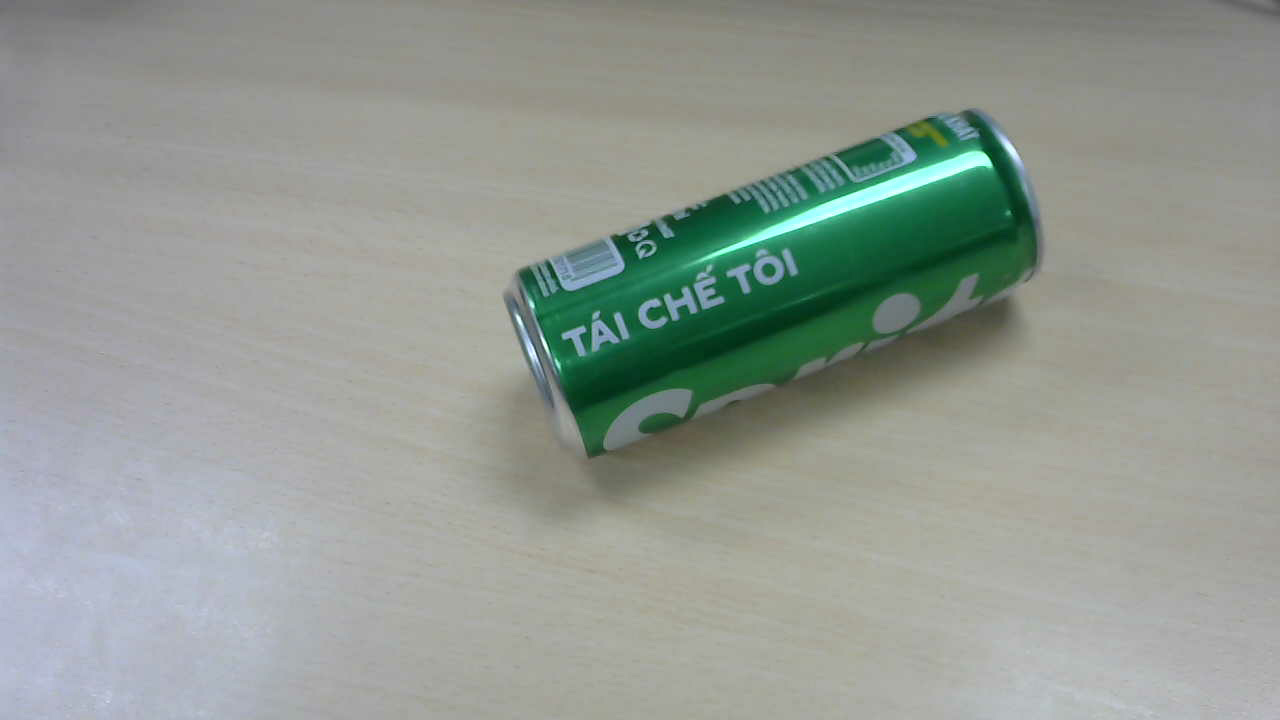Sprite: (509, 111, 1045, 469)
